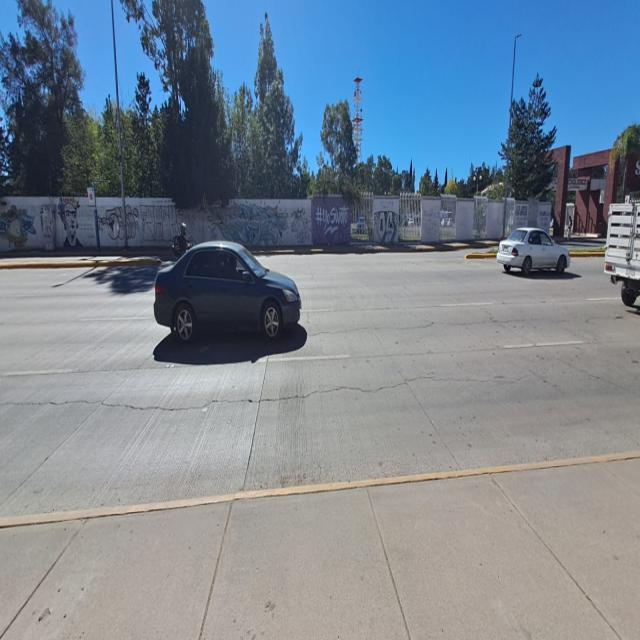Auto: (150, 231, 304, 346), (495, 215, 574, 282), (605, 188, 640, 305)
